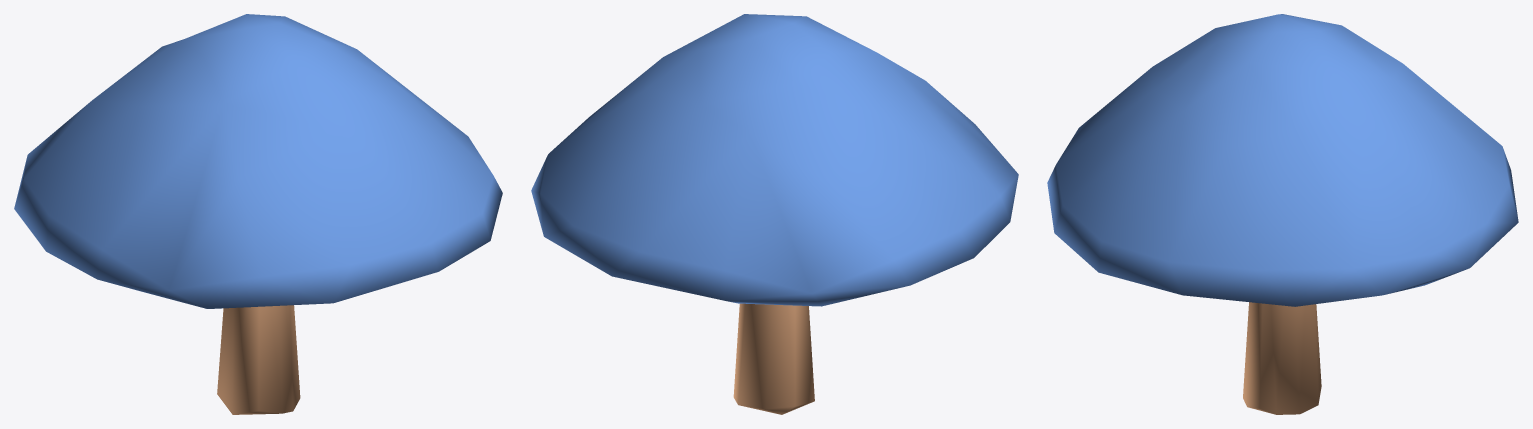
Rendered from Mushroom_1.fbx.
3 views of the same model, side by side, from view 1: azimuth 30°, elevation 25°; view 2: azimuth 150°, elevation 25°; view 3: azimuth 270°, elevation 25° (orthographic).
Visible parts, largest first — view 1: Mushroom_1; view 2: Mushroom_1; view 3: Mushroom_1.
Part boxes in pixels (box(x1,y1,x2,y2)): Mushroom_1: box(14, 14, 502, 414); Mushroom_1: box(531, 14, 1018, 414); Mushroom_1: box(1047, 14, 1518, 414).
Bounding box in the file's own units: 61.6 × 54.13 × 61.36.
